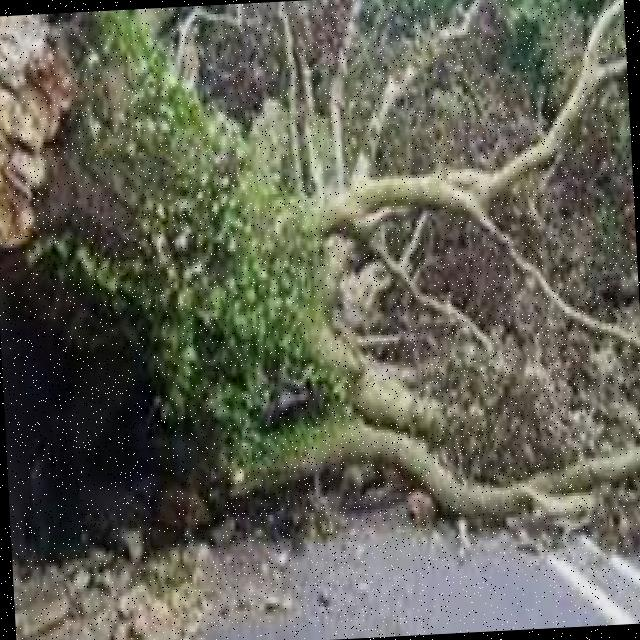fallen_object: (180, 309, 640, 533), (239, 133, 637, 274)
